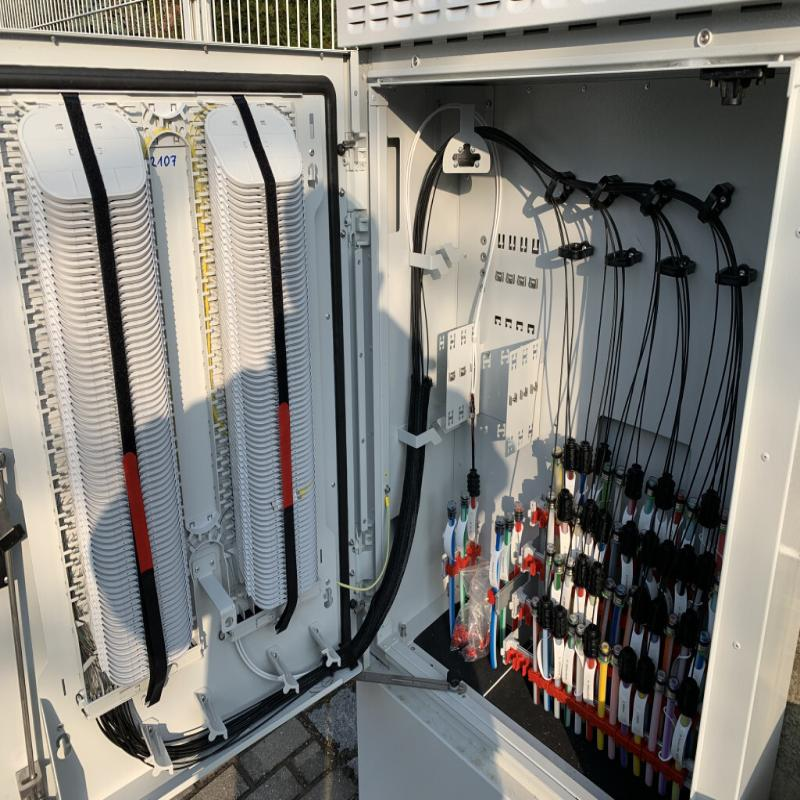NT-Gehause: (3, 0, 800, 800)
Spleiskassetten: (5, 99, 207, 709), (184, 104, 330, 614)
